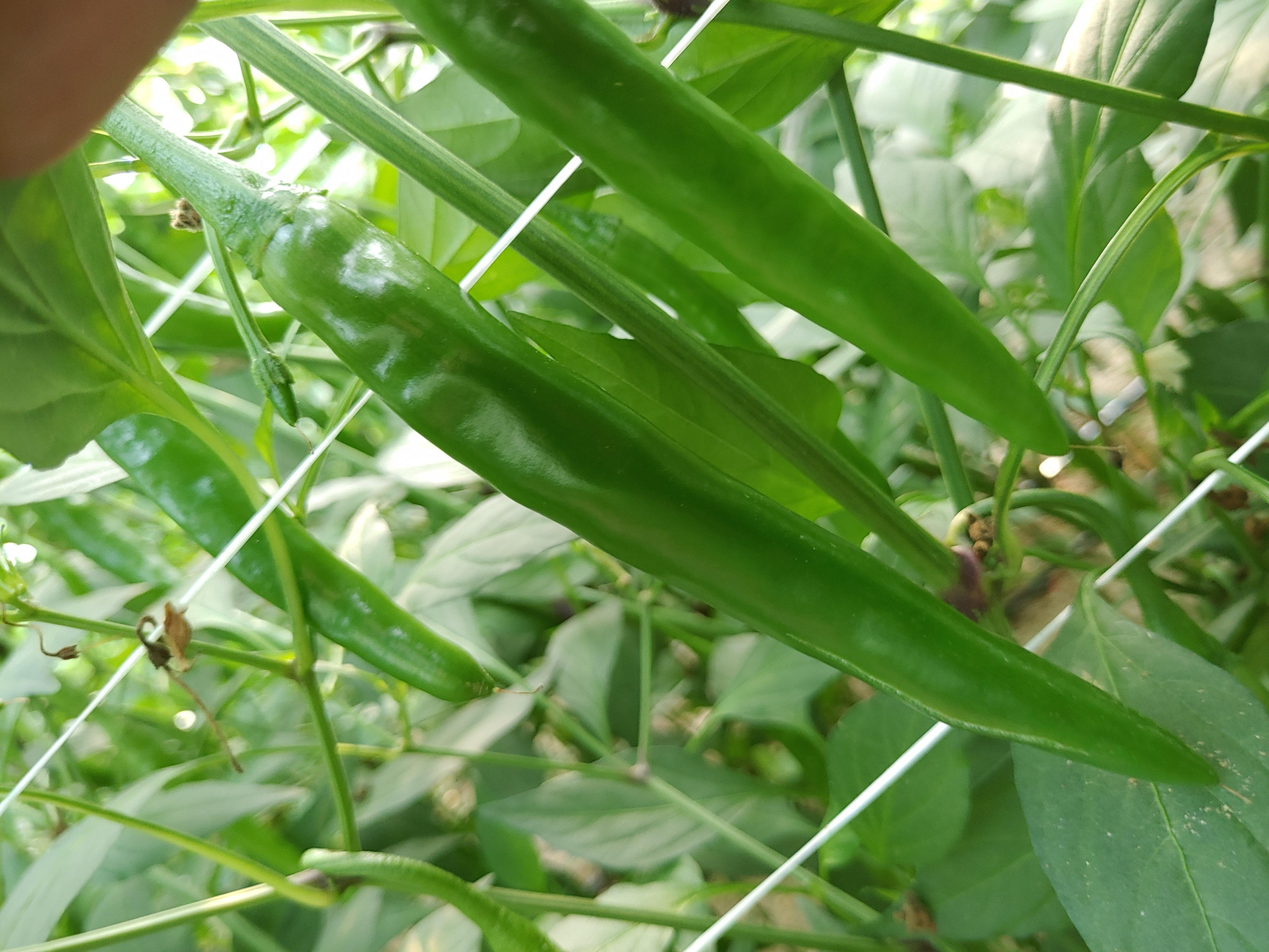Buah Cabai Sehat: (217, 181, 1227, 792), (372, 0, 1099, 457)
